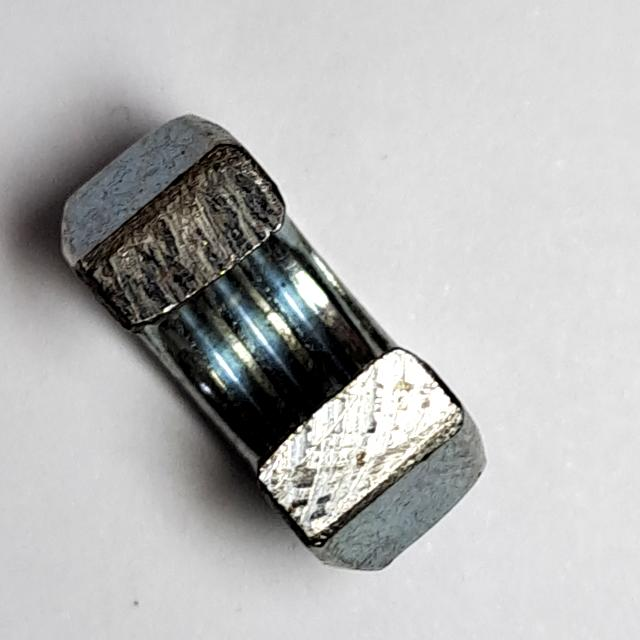Side-Fracture: (49, 102, 507, 587)
